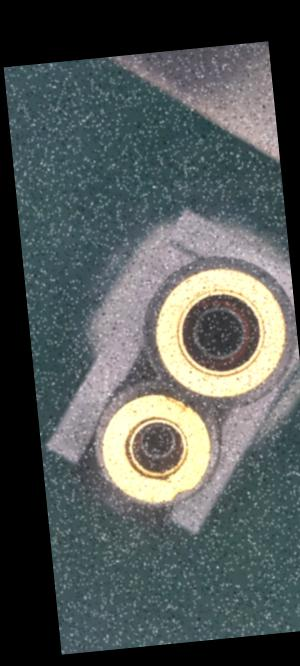bump: (158, 389, 192, 417), (167, 485, 193, 500)
